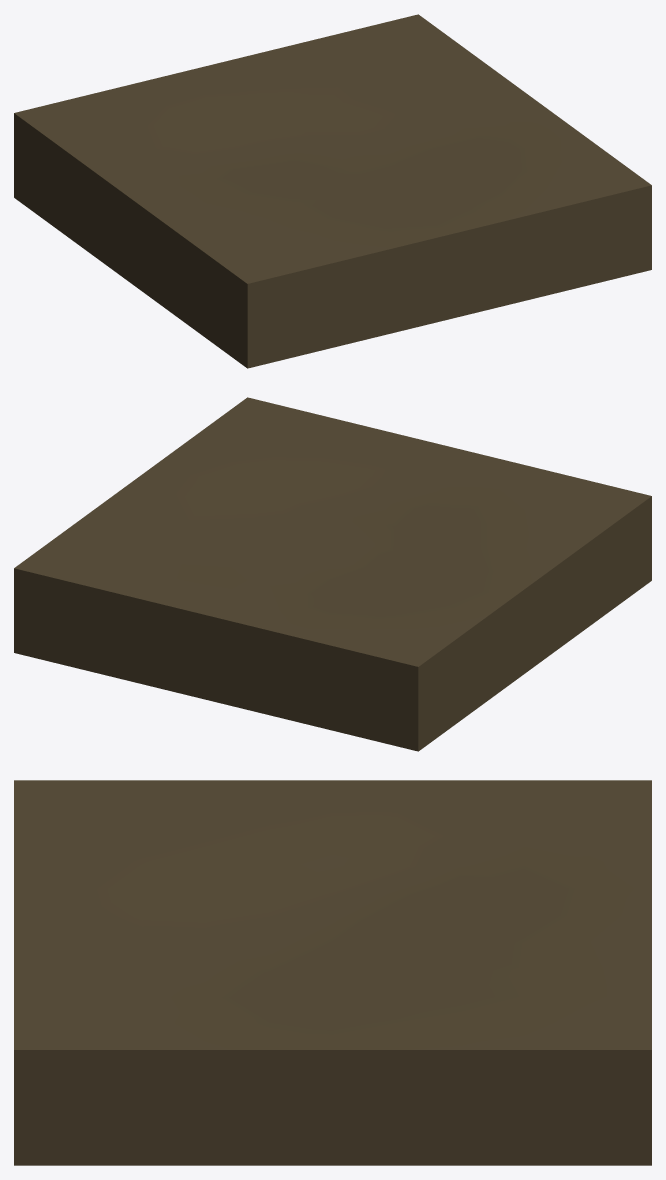
Rendered from GroundTile.fbx.
3 renders of one model, top to bottom at view 1: azimuth 30°, elevation 25°; view 2: azimuth 150°, elevation 25°; view 3: azimuth 270°, elevation 25°, orthographic. The views are drawn at different scales.
Visible parts, largest first — view 1: GroundTile; view 2: GroundTile; view 3: GroundTile.
Boxes of the visible parts, box(x1,y1,x2,y2) form: GroundTile: box(14, 14, 651, 368); GroundTile: box(14, 397, 651, 751); GroundTile: box(14, 780, 651, 1165).
Size of the model in its own units: 20 by 4 by 20.
